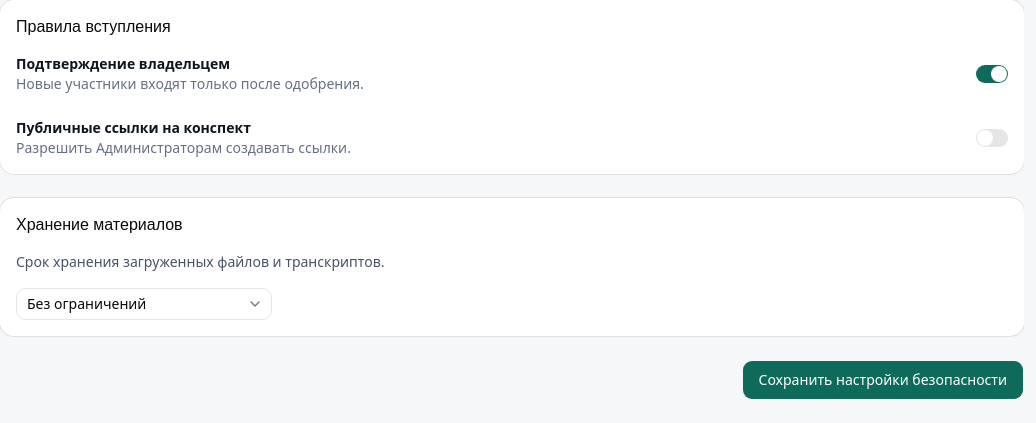
Test: SecurityTab › позволяет выбрать другой срок хранения
What coordinates should you click on to do the following:
click the dropdown
I would click on:
 (144, 304)
Its box is 16,288 -> 272,320.
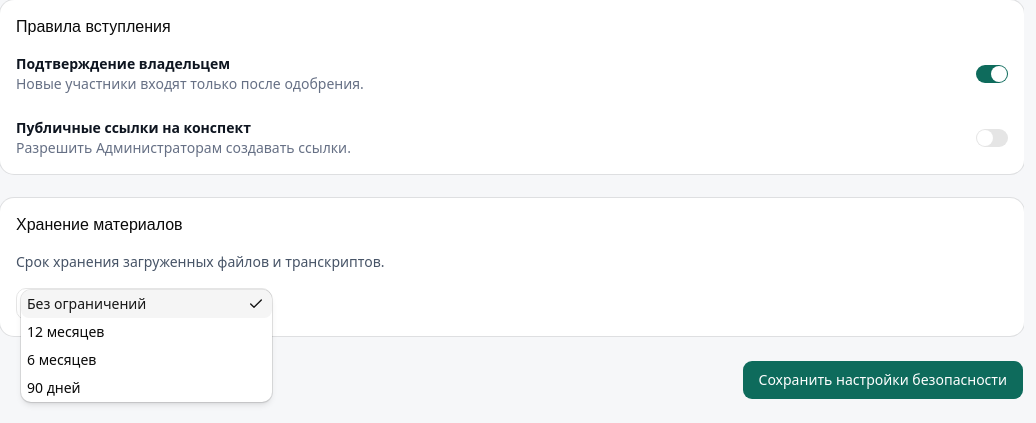
What coordinates should you click on to do the following:
click the option "12 месяцев"
I would click on:
 (66, 332)
Its box is 27,322 -> 104,341.
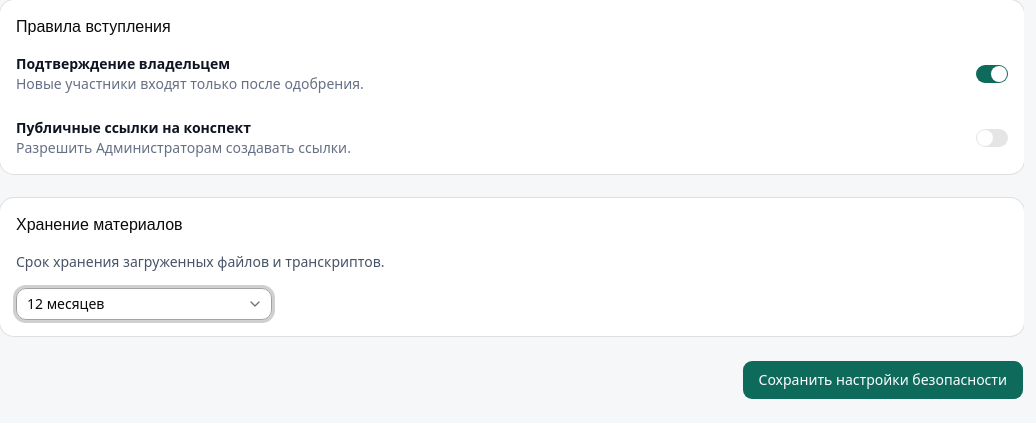
Check: the dropdown reads "12 месяцев", box 16,288 -> 272,320
